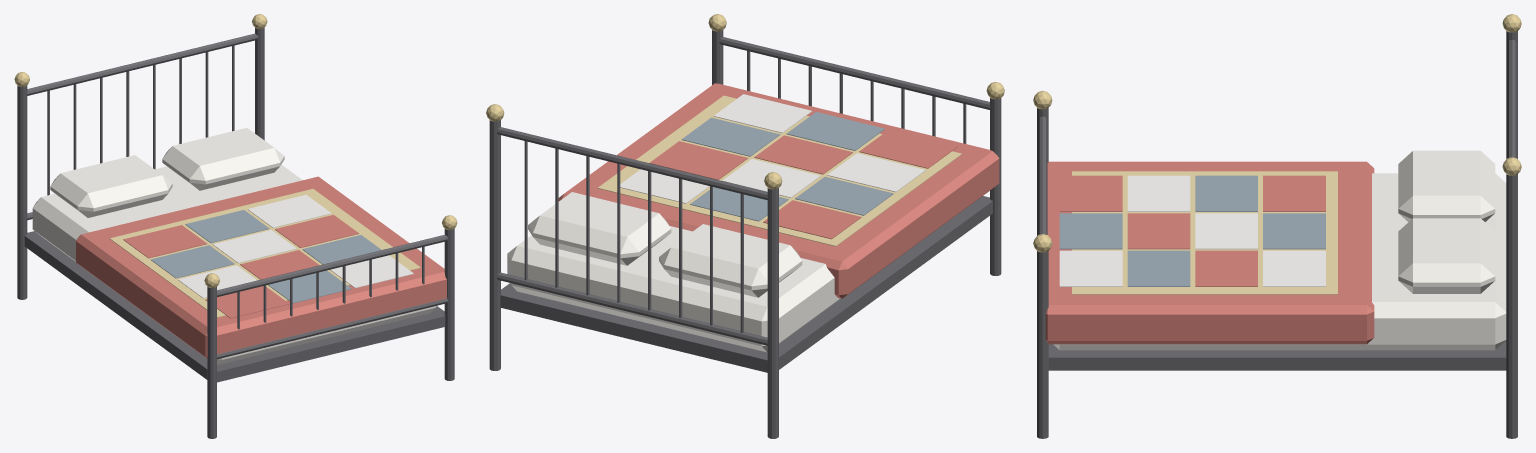
Rendered from bed.glb.
3 renders of one model, left to right at view 1: azimuth 30°, elevation 25°; view 2: azimuth 150°, elevation 25°; view 3: azimuth 270°, elevation 25°, orthographic. The views are drawn at different scales.
Parts seen in each view (by area): view 1: bed_quilt, bed_iron, bed_linen, bed_fabric, bed_paint_w, bed_hay, bed_brass; view 2: bed_iron, bed_linen, bed_quilt, bed_fabric, bed_paint_w, bed_hay, bed_brass; view 3: bed_quilt, bed_linen, bed_iron, bed_fabric, bed_paint_w, bed_hay, bed_brass.
Boxes of the visible parts, x1,y1,x2,y2 form: bed_quilt: [76, 176, 446, 358]; bed_iron: [17, 28, 454, 438]; bed_linen: [32, 128, 436, 364]; bed_fabric: [150, 210, 381, 303]; bed_paint_w: [178, 194, 413, 298]; bed_hay: [109, 189, 420, 317]; bed_brass: [14, 14, 457, 288]; bed_iron: [489, 30, 1001, 438]; bed_linen: [507, 192, 840, 352]; bed_quilt: [558, 83, 999, 298]; bed_fabric: [681, 112, 893, 221]; bed_paint_w: [620, 94, 925, 203]; bed_hay: [597, 95, 961, 246]; bed_brass: [486, 14, 1004, 189]; bed_quilt: [1045, 161, 1374, 344]; bed_linen: [1053, 150, 1506, 350]; bed_iron: [1037, 31, 1517, 438]; bed_fabric: [1059, 175, 1325, 286]; bed_paint_w: [1059, 175, 1325, 286]; bed_hay: [1072, 171, 1337, 294]; bed_brass: [1033, 14, 1521, 252].
Bounding box in the file's own units: 1.48 × 1.27 × 2.02.
